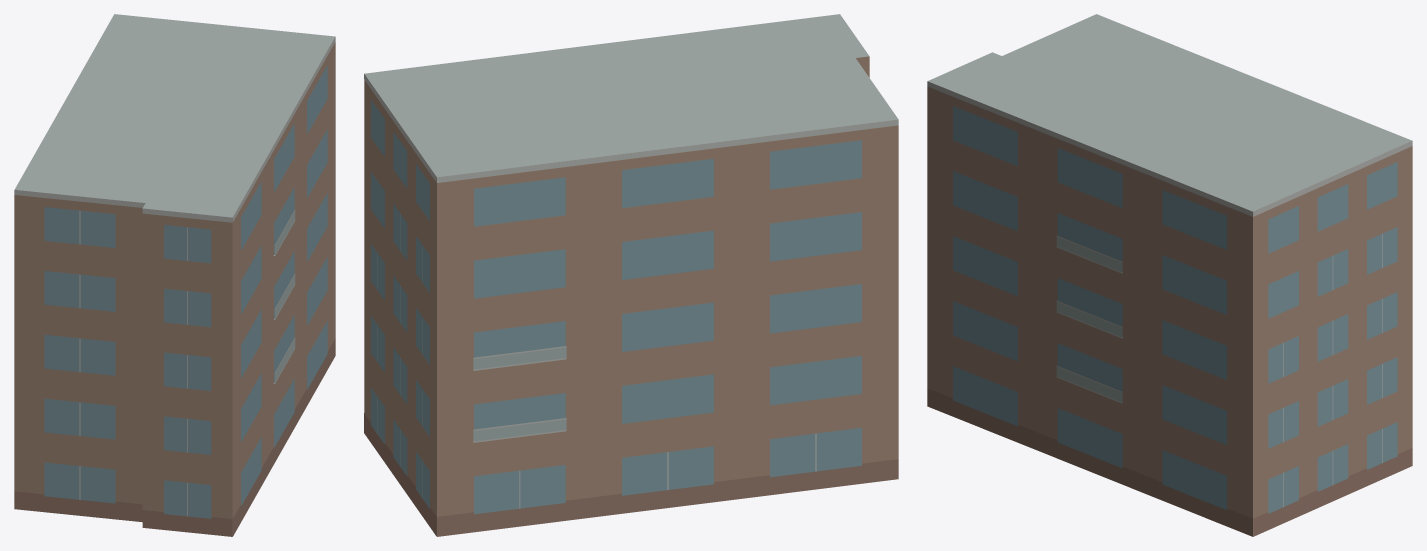
File: survey-upis-32498197.glb
3 views of the same model, side by side, from view 1: azimuth 30°, elevation 25°; view 2: azimuth 150°, elevation 25°; view 3: azimuth 270°, elevation 25° (orthographic). The views are drawn at different scales.
Visible parts, largest first — view 1: survey-upis-32498197.tmp; view 2: survey-upis-32498197.tmp; view 3: survey-upis-32498197.tmp.
Boxes of the visible parts, box(x1,y1,x2,y2) form: survey-upis-32498197.tmp: box(14, 14, 335, 536); survey-upis-32498197.tmp: box(364, 14, 898, 536); survey-upis-32498197.tmp: box(927, 14, 1412, 536).
Bounding box in the file's own units: 19.9 × 15.25 × 20.63.
